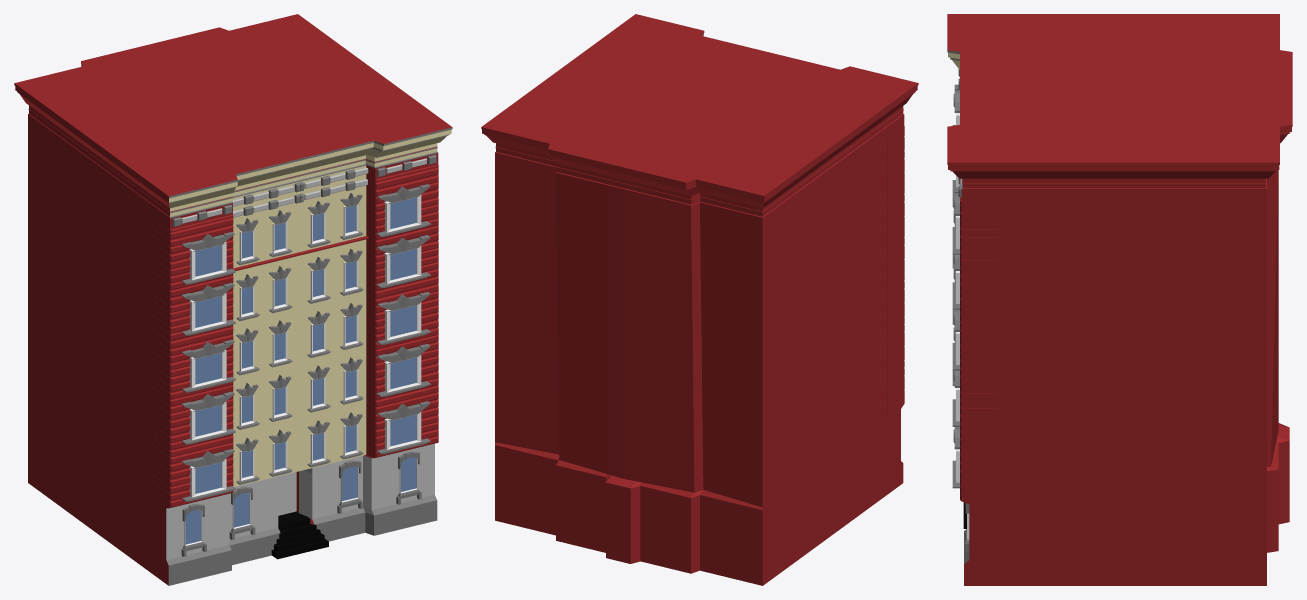
Rendered from Дом 8.fbx.
The picture shows the model from 3 angles, left to right: view 1: azimuth 30°, elevation 25°; view 2: azimuth 150°, elevation 25°; view 3: azimuth 270°, elevation 25°; orthographic projection. The views are drawn at different scales.
Visible parts, largest first — view 1: Cube; view 2: Cube; view 3: Cube.
Part boxes in pixels (x1,y1,x2,y2): Cube: (14,14,452,585); Cube: (481,14,918,585); Cube: (947,14,1292,585).
Size of the model in its own units: 157 by 211 by 155.
